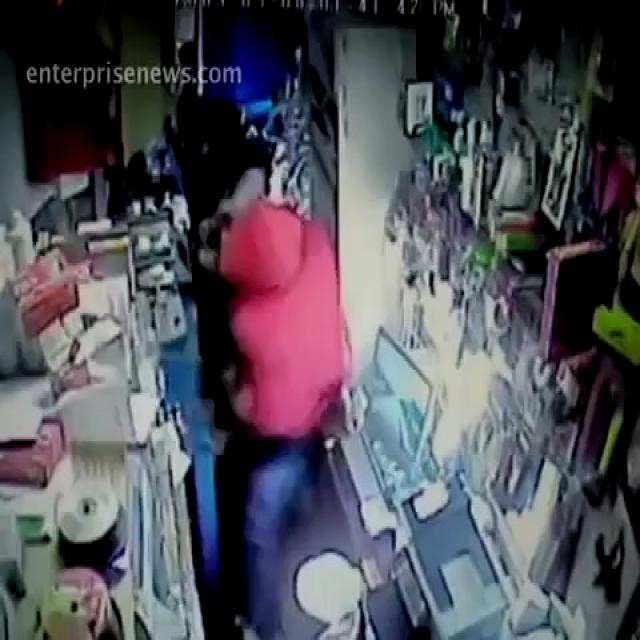fight: (180, 125, 366, 598)
